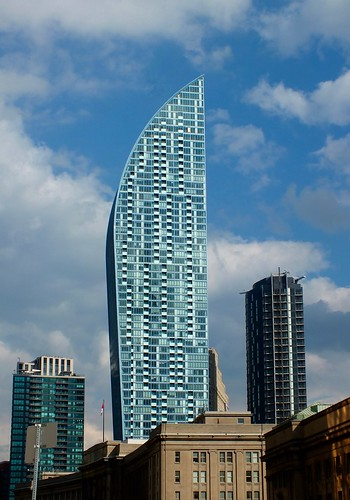low: (100, 67, 215, 451), (7, 350, 88, 496), (239, 272, 311, 430)
